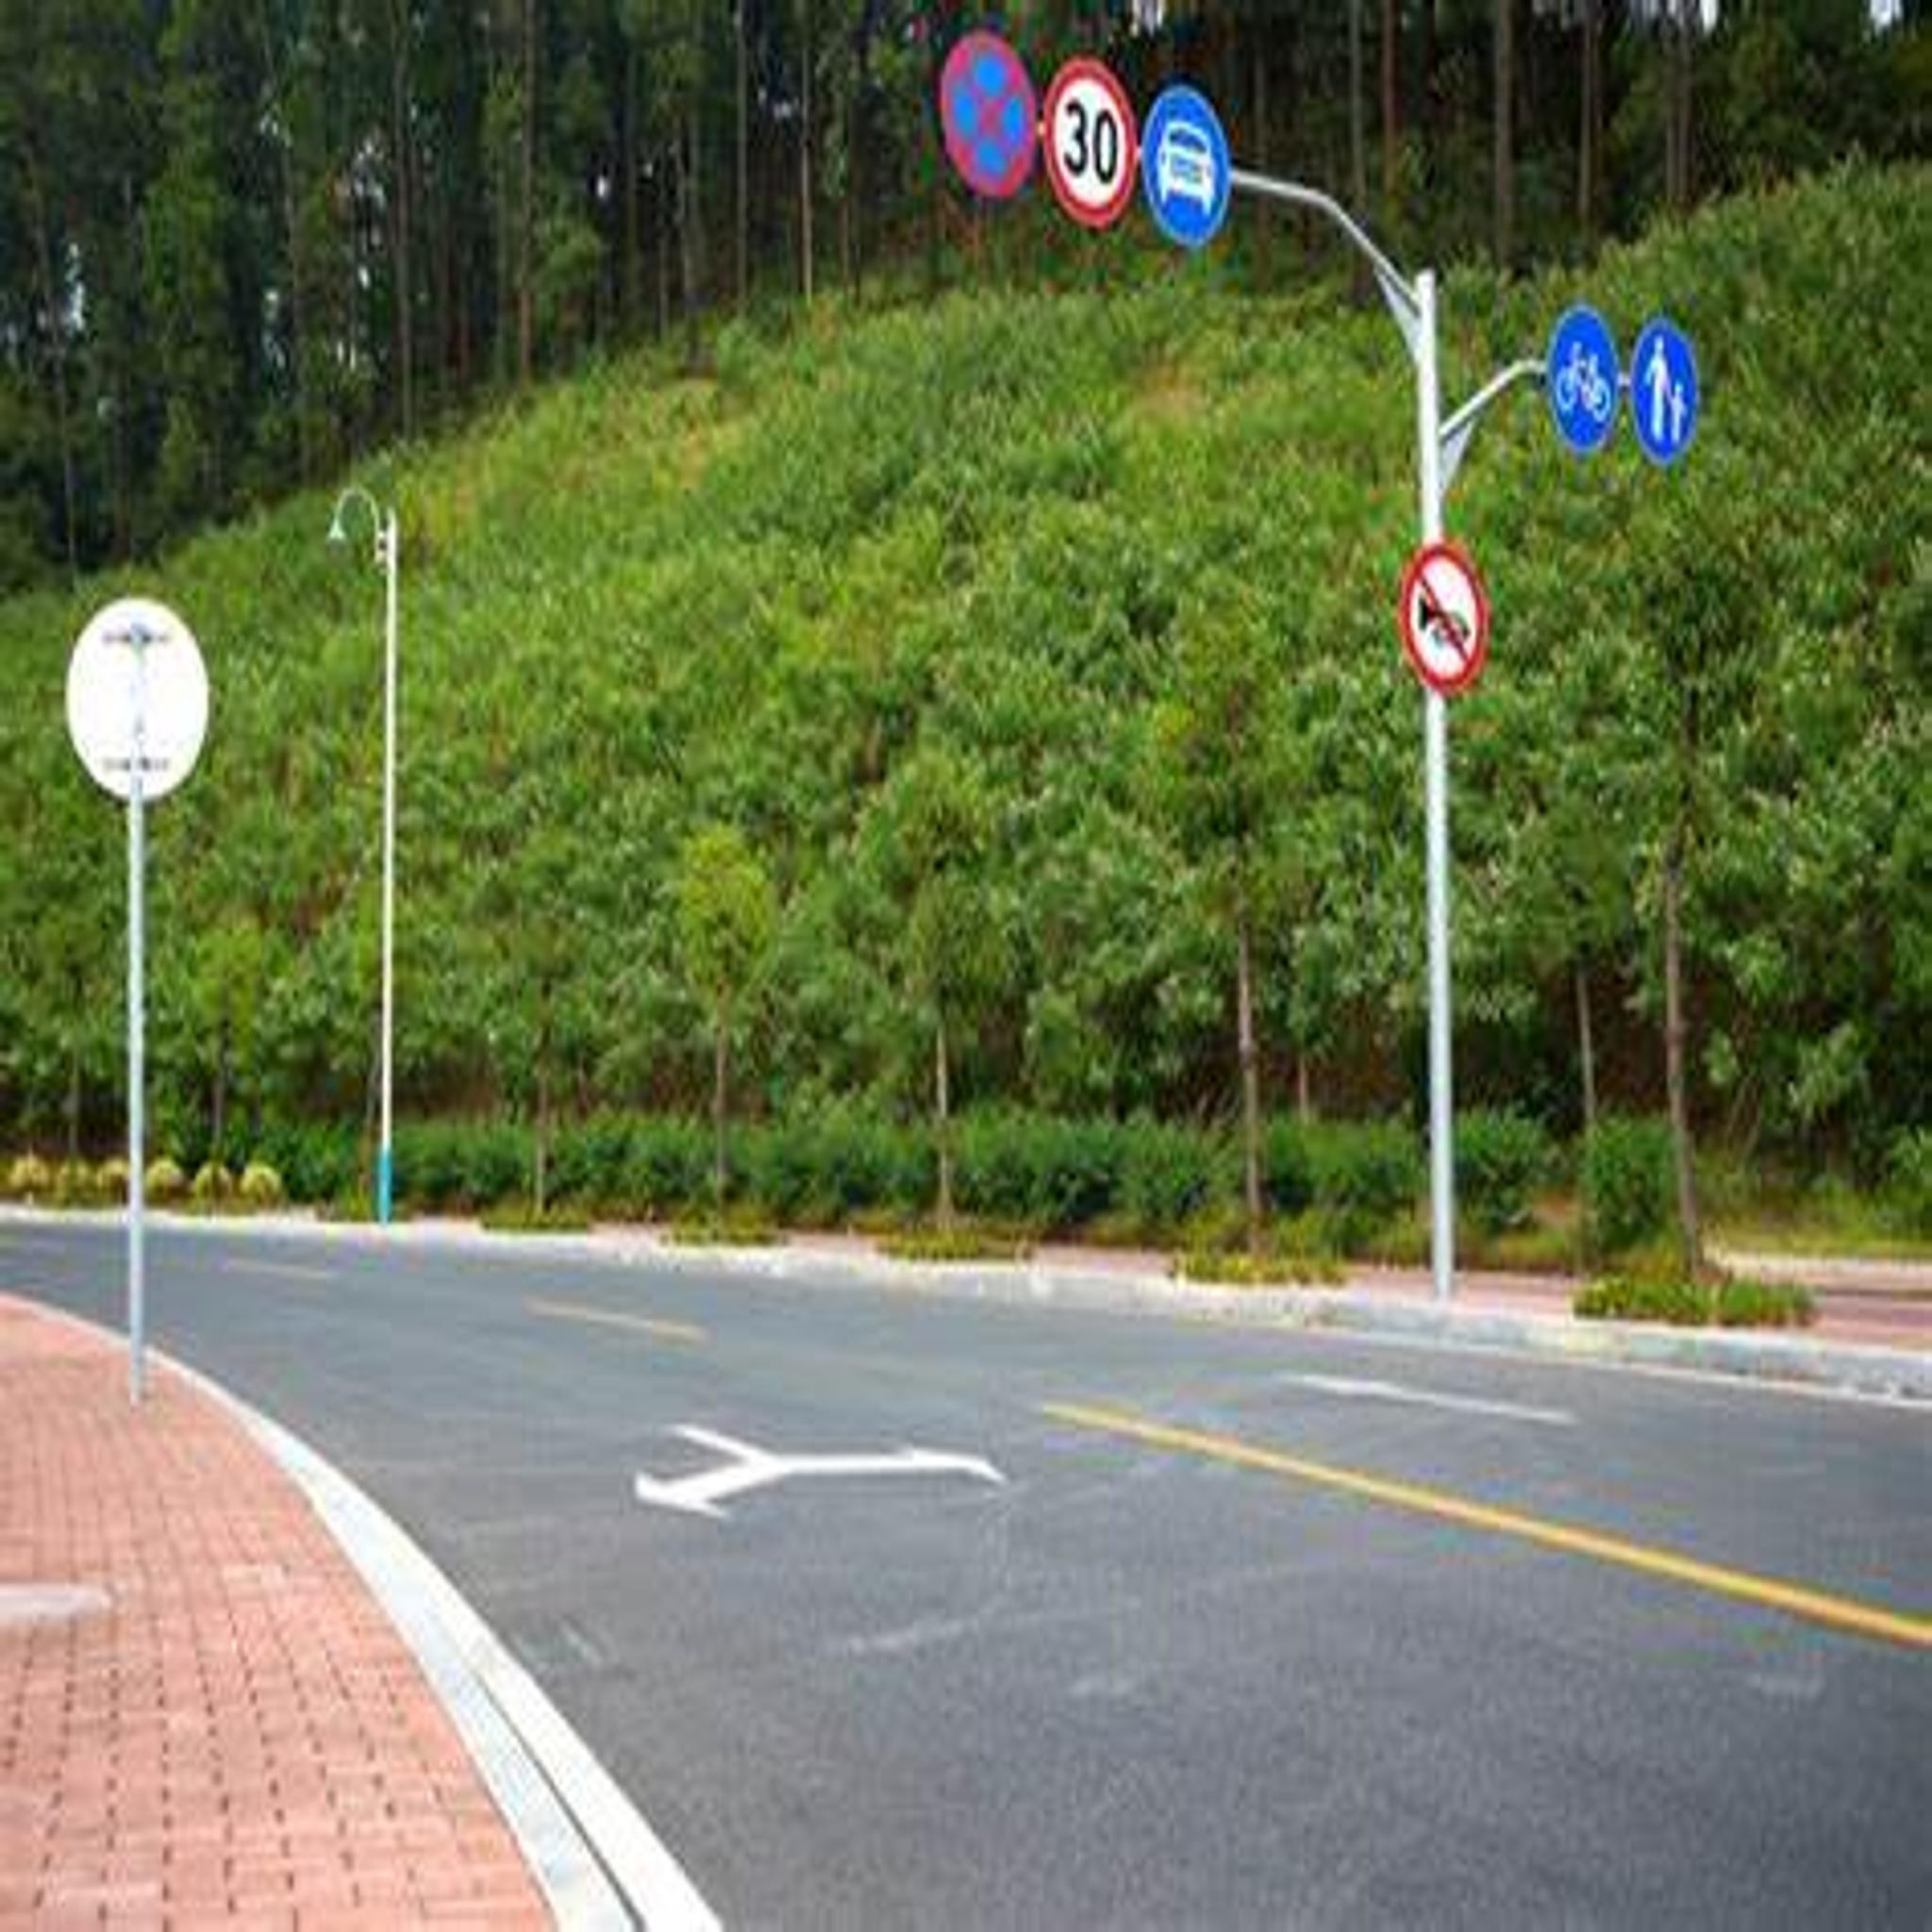i2: (1543, 306, 1612, 444)
i4: (1148, 81, 1228, 239)
p11: (1398, 536, 1483, 706)
pl30: (1053, 53, 1123, 218)
pn: (939, 27, 1026, 205)
